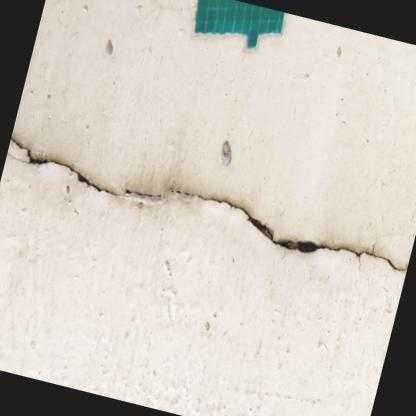crack: (10, 137, 408, 272)
